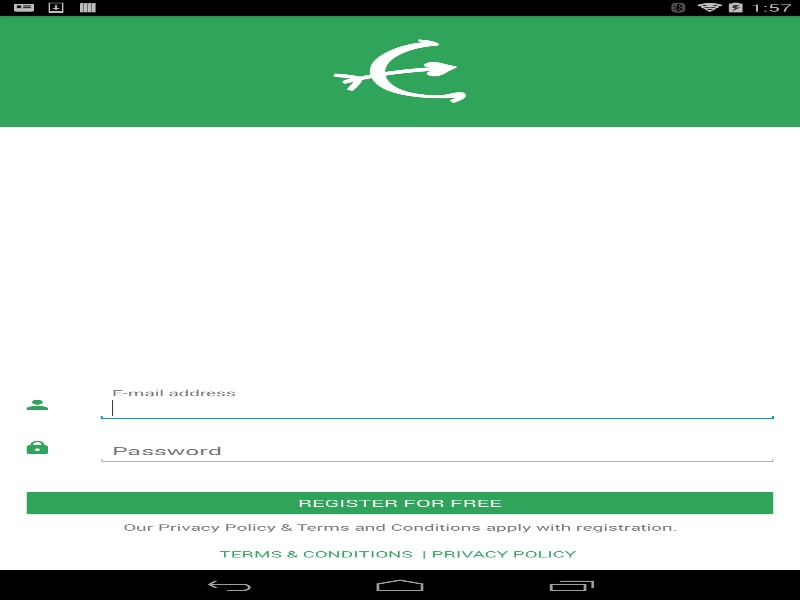Button: (21, 495, 778, 525), (21, 530, 778, 560), (457, 441, 778, 471)
Input: (74, 382, 778, 408), (74, 415, 778, 441)
